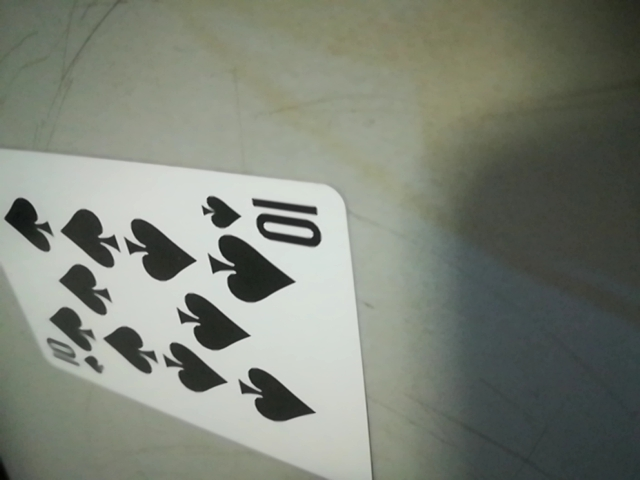ht 10: (196, 184, 338, 249)
